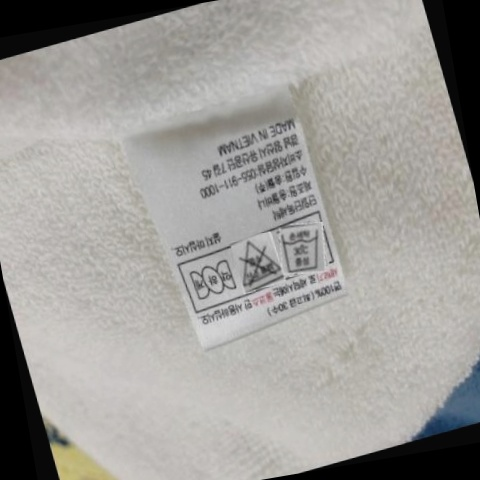DN_bleach: (234, 236, 288, 290)
hand_wash: (279, 221, 334, 275)
wring: (180, 254, 241, 305)
